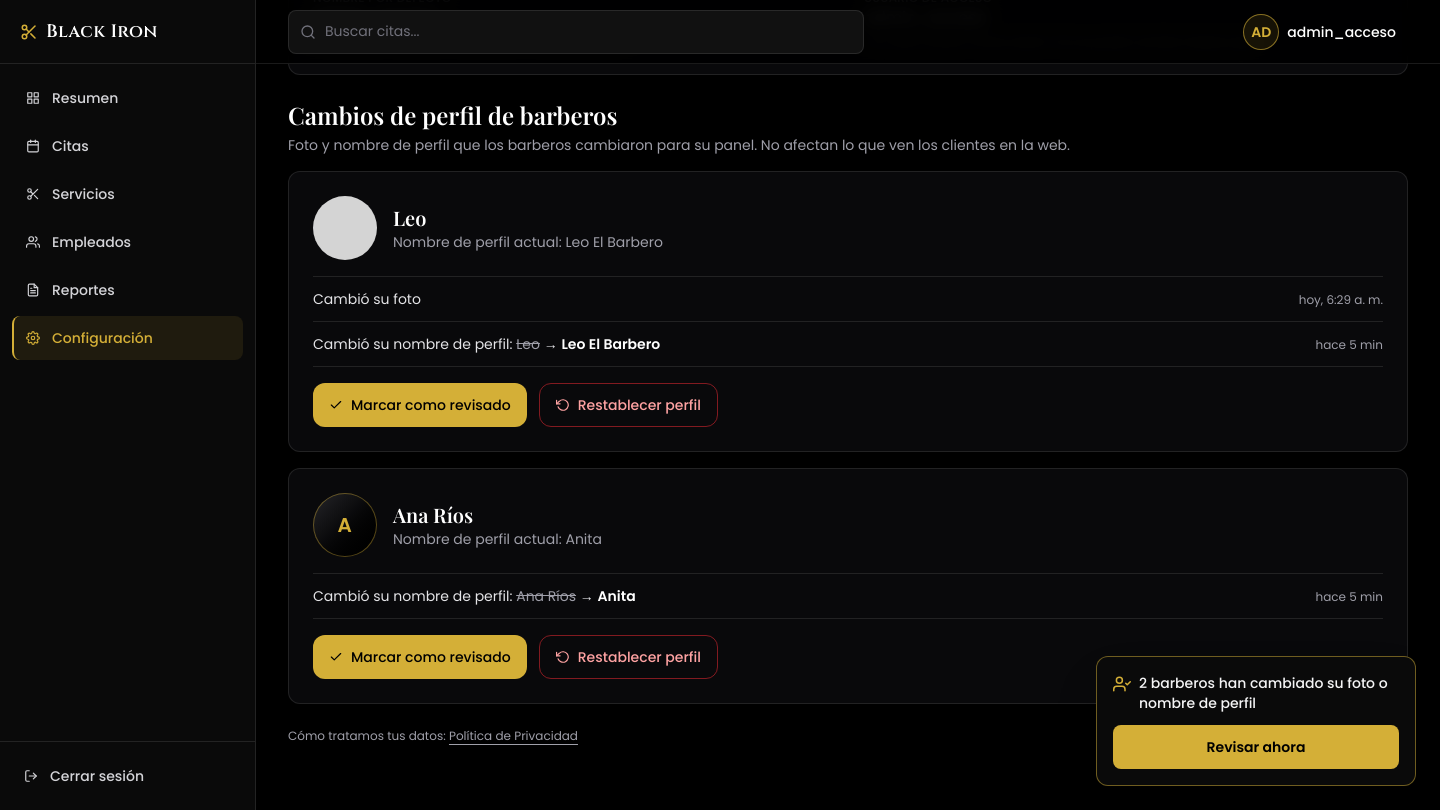
Test case: Vista de revisión en /admin/configuracion › "Marcar como revisado" quita la tarjeta y baja el aviso al instante, y deja el foco en el título
This screenshot has width=1440, height=810.
(page scrolled)
Expected: the text "2 barberos han cambiado su foto o nombre de perfil" is shown, left=1139, top=673, right=1399, bottom=713
Click the button with aria-label "Marcar como revisado el perfil de Leo" at (420, 405), box left=313, top=383, right=527, bottom=427
(page scrolled)
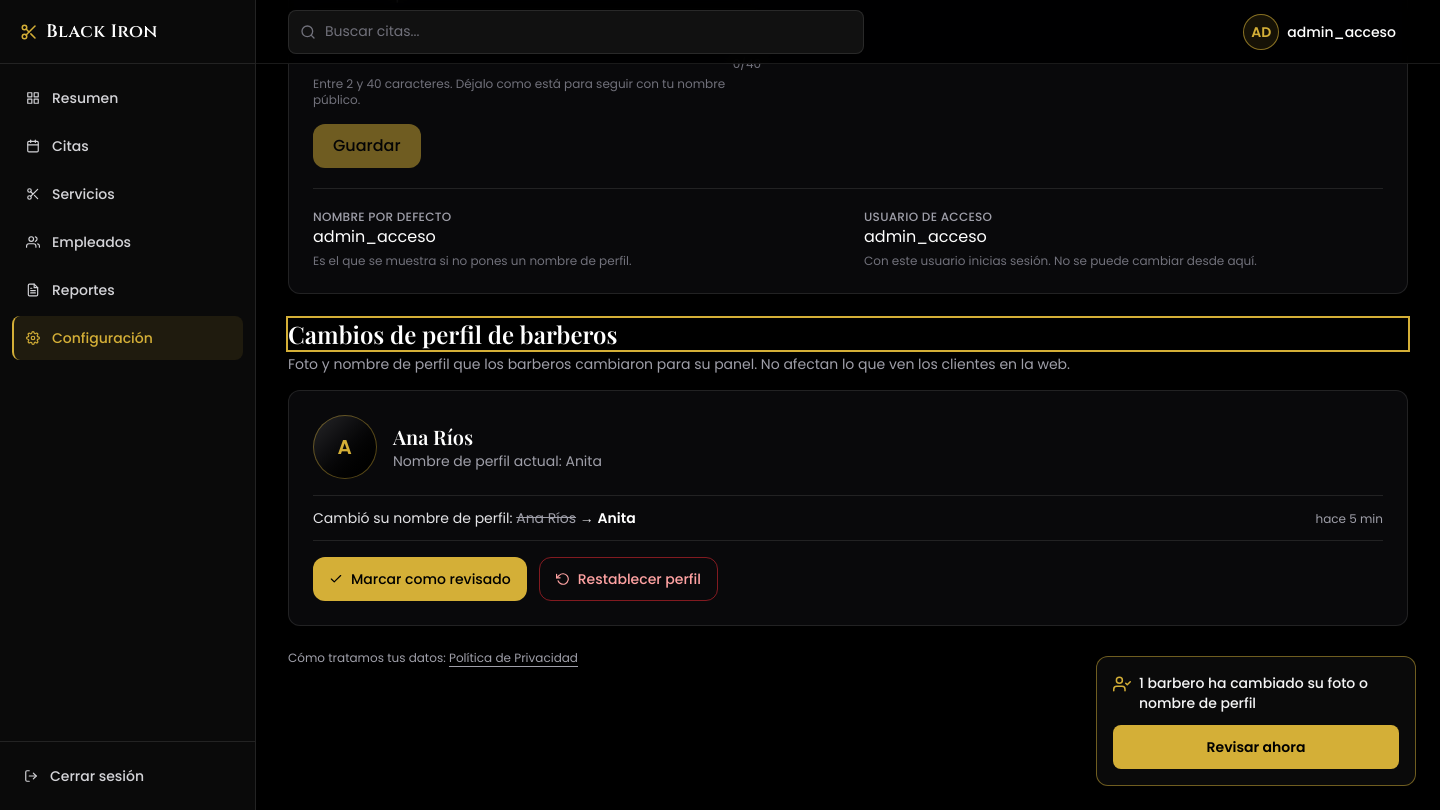
Expected: the element named "Cambios de perfil de Ana Ríos" is shown, left=288, top=390, right=1408, bottom=626
Expected: the text "1 barbero ha cambiado su foto o nombre de perfil" is shown, left=1139, top=673, right=1399, bottom=713
